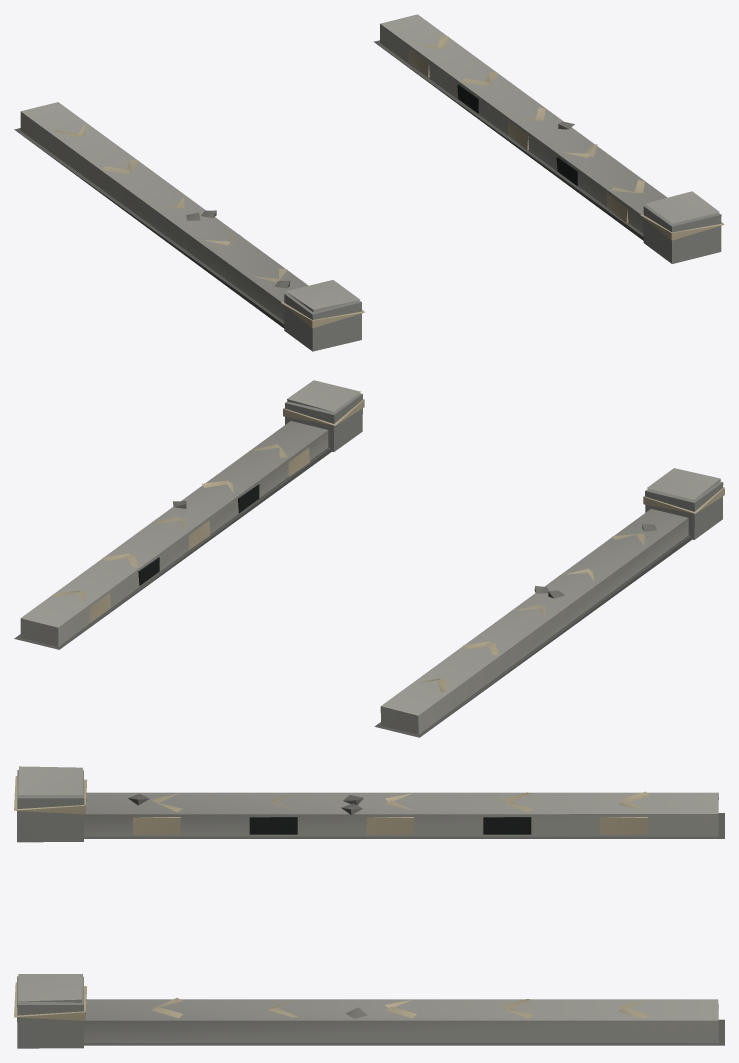
The model's file is takeoff_deck_a_lod2.glb.
3 renders of one model, top to bottom at view 1: azimuth 30°, elevation 25°; view 2: azimuth 150°, elevation 25°; view 3: azimuth 270°, elevation 25°, orthographic. The views are drawn at different scales.
Visible parts, largest first — view 1: Surface.001; view 2: Surface.001; view 3: Surface.001.
Boxes of the visible parts, x1,y1,x2,y2 form: Surface.001: (14,14,724,351); Surface.001: (14,380,724,737); Surface.001: (14,766,724,1048).
Size of the model in its own units: 10.58 by 1.01 by 13.39.
